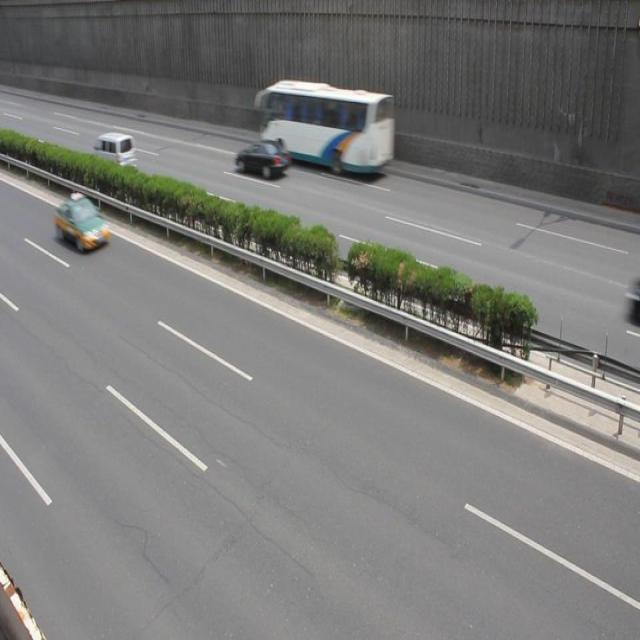car: (55, 194, 110, 253), (232, 141, 290, 179)
truck: (90, 134, 137, 178)
van: (255, 77, 394, 177)
